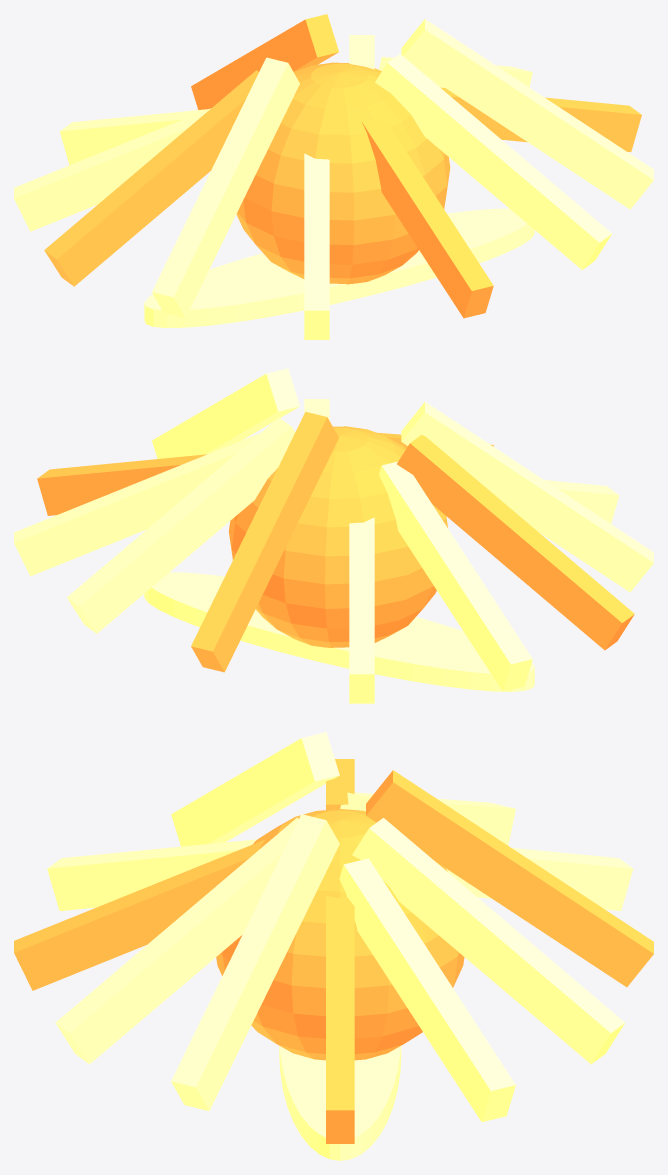
File: headshot_burst.glb
The picture shows the model from 3 angles, top to bottom: view 1: azimuth 30°, elevation 25°; view 2: azimuth 150°, elevation 25°; view 3: azimuth 270°, elevation 25°; orthographic projection. The views are drawn at different scales.
Parts seen in each view (by area): view 1: headshot burst core, headshot crown ray 11, headshot crown ray 10, headshot hit bone crown, headshot crown ray 7, headshot crown ray 6, headshot crown ray 9, headshot crown ray 5, headshot crown ray 8, headshot crown ray 3, headshot crown ray 4, headshot crown ray 0 (+2 smaller); view 2: headshot burst core, headshot crown ray 6, headshot crown ray 2, headshot crown ray 7, headshot crown ray 3, headshot hit bone crown, headshot crown ray 5, headshot crown ray 1, headshot crown ray 11, headshot crown ray 4, headshot crown ray 0, headshot crown ray 8; view 3: headshot burst core, headshot crown ray 2, headshot crown ray 3, headshot crown ray 11, headshot crown ray 10, headshot crown ray 1, headshot crown ray 9, headshot crown ray 7, headshot hit bone crown, headshot crown ray 0, headshot crown ray 8, headshot crown ray 4 (+2 smaller).
Boxes of the visible parts, left/top/right/bottom form: headshot burst core: left=236, top=62, right=450, bottom=284; headshot crown ray 11: left=401, top=19, right=653, bottom=209; headshot crown ray 10: left=375, top=54, right=612, bottom=269; headshot hit bone crown: left=144, top=208, right=534, bottom=327; headshot crown ray 7: left=152, top=57, right=299, bottom=318; headshot crown ray 6: left=44, top=70, right=258, bottom=286; headshot crown ray 9: left=361, top=116, right=493, bottom=318; headshot crown ray 5: left=14, top=108, right=211, bottom=231; headshot crown ray 8: left=304, top=153, right=329, bottom=339; headshot crown ray 3: left=191, top=14, right=338, bottom=109; headshot crown ray 4: left=59, top=109, right=208, bottom=165; headshot crown ray 0: left=440, top=87, right=641, bottom=151; headshot burst core: left=228, top=426, right=447, bottom=647; headshot crown ray 6: left=397, top=434, right=634, bottom=650; headshot crown ray 2: left=67, top=417, right=295, bottom=633; headshot crown ray 7: left=401, top=402, right=653, bottom=592; headshot crown ray 3: left=191, top=411, right=338, bottom=672; headshot hit bone crown: left=144, top=572, right=534, bottom=691; headshot crown ray 5: left=379, top=461, right=532, bottom=691; headshot crown ray 1: left=14, top=433, right=259, bottom=576; headshot crown ray 11: left=152, top=368, right=299, bottom=458; headshot crown ray 4: left=349, top=517, right=374, bottom=703; headshot crown ray 0: left=37, top=454, right=206, bottom=515; headshot crown ray 8: left=446, top=480, right=619, bottom=523; headshot burst core: left=216, top=809, right=464, bottom=1060; headshot crown ray 2: left=352, top=818, right=624, bottom=1064; headshot crown ray 3: left=366, top=770, right=653, bottom=987; headshot crown ray 11: left=171, top=814, right=339, bottom=1110; headshot crown ray 10: left=55, top=818, right=298, bottom=1064; headshot crown ray 1: left=339, top=858, right=515, bottom=1121; headshot crown ray 9: left=14, top=839, right=265, bottom=990; headshot crown ray 7: left=171, top=732, right=339, bottom=846; headshot hit bone crown: left=279, top=1046, right=401, bottom=1160; headshot crown ray 0: left=326, top=895, right=354, bottom=1143; headshot crown ray 8: left=47, top=839, right=256, bottom=910; headshot crown ray 4: left=446, top=848, right=633, bottom=910.
Bounding box in the file's own units: 0.9071 × 0.3605 × 0.7541.
